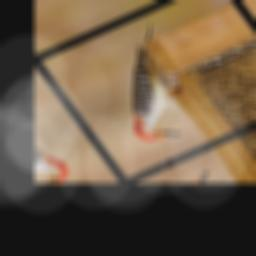Woodpecker: (77, 24, 220, 151)
